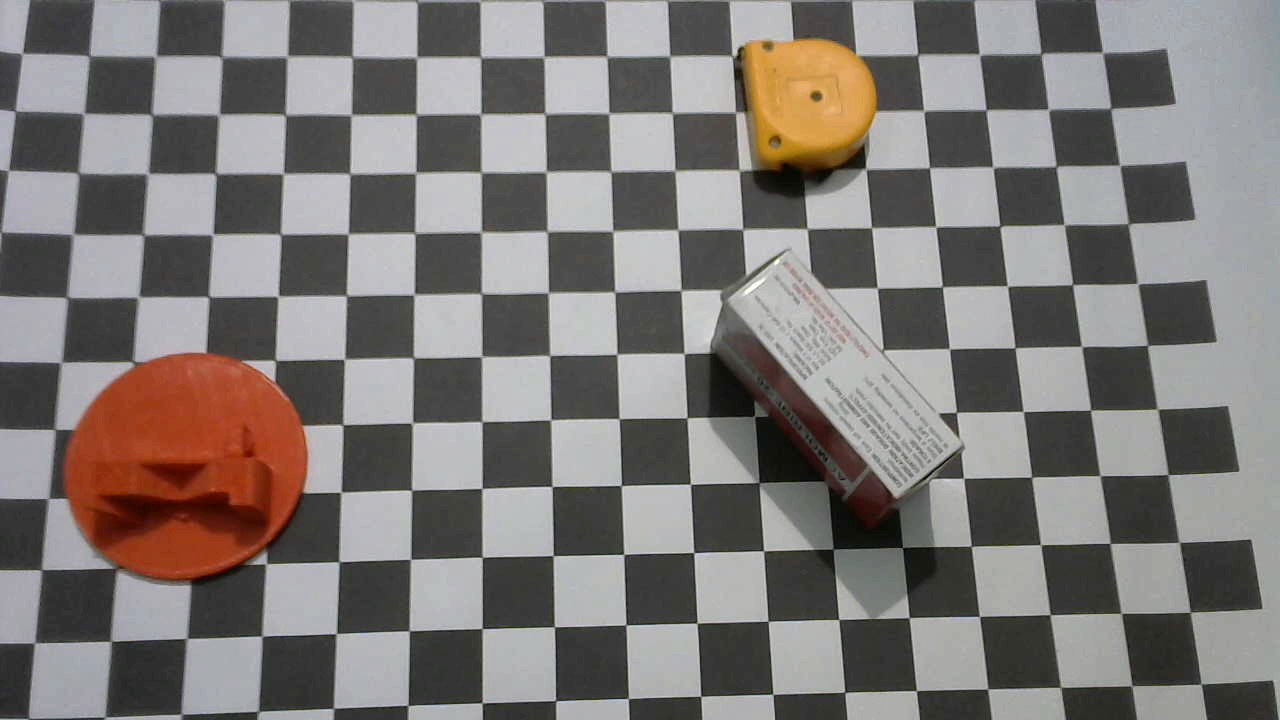blue: (62, 354, 307, 584)
green: (736, 37, 879, 179)
red: (706, 249, 962, 533)
